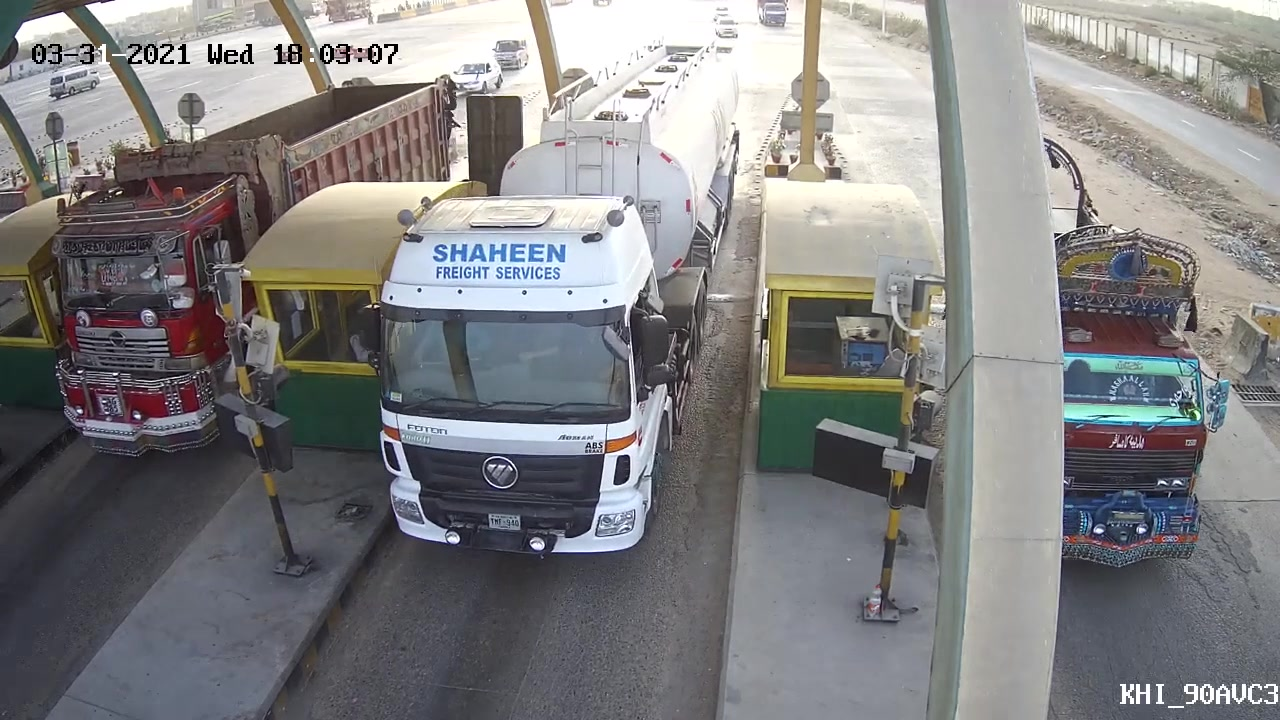F6: (351, 66, 755, 566)
